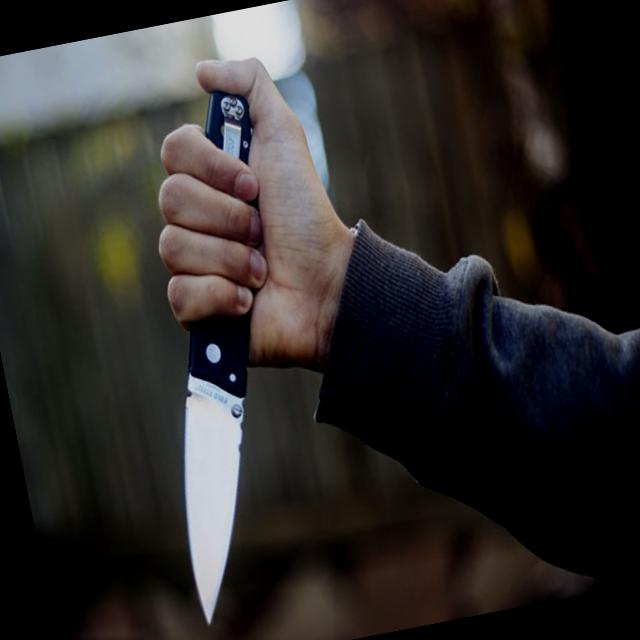knife: (86, 45, 377, 638)
